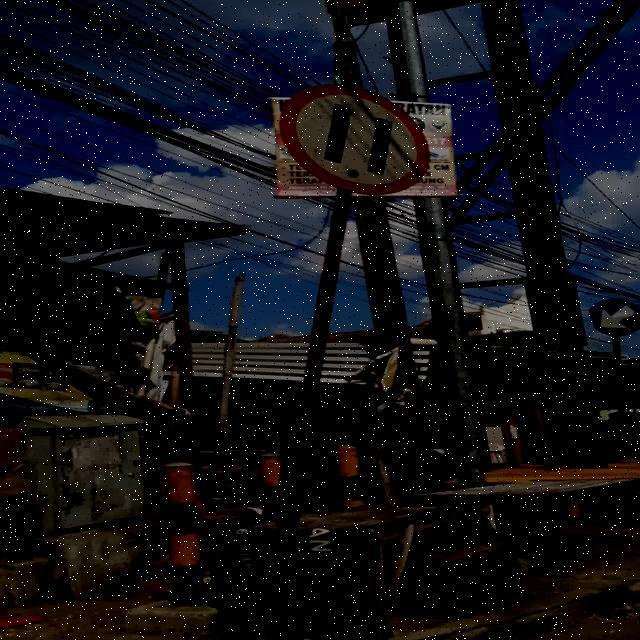Larangan Muatan - 10 ton: (281, 84, 428, 194)
